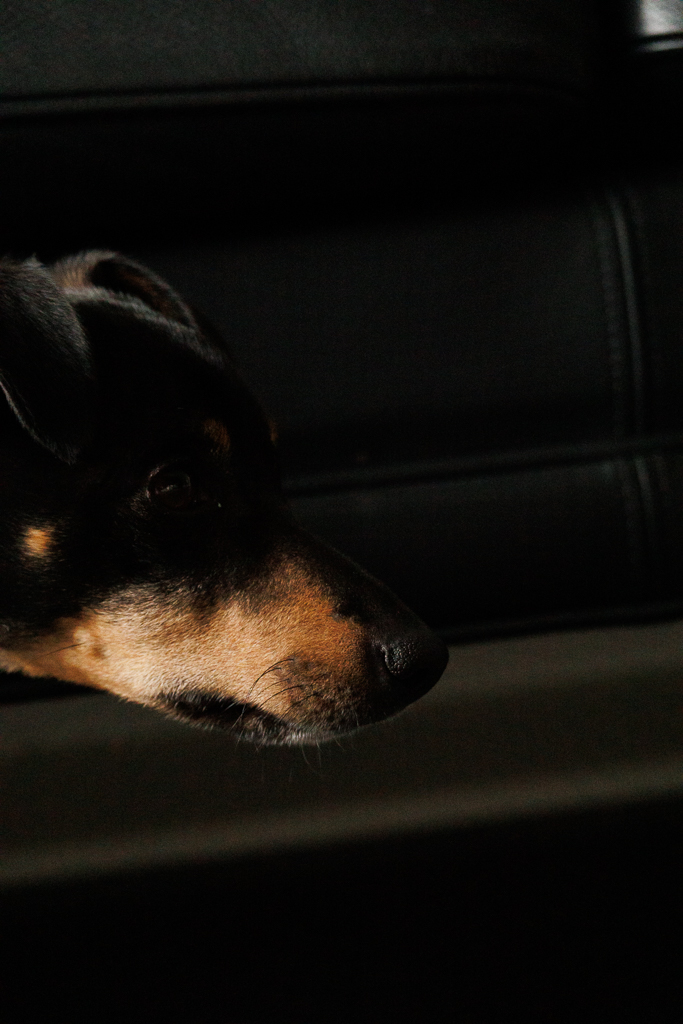Dog: (0, 224, 459, 777)
